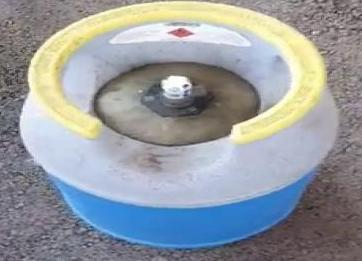cylinder: (1, 0, 362, 261)
